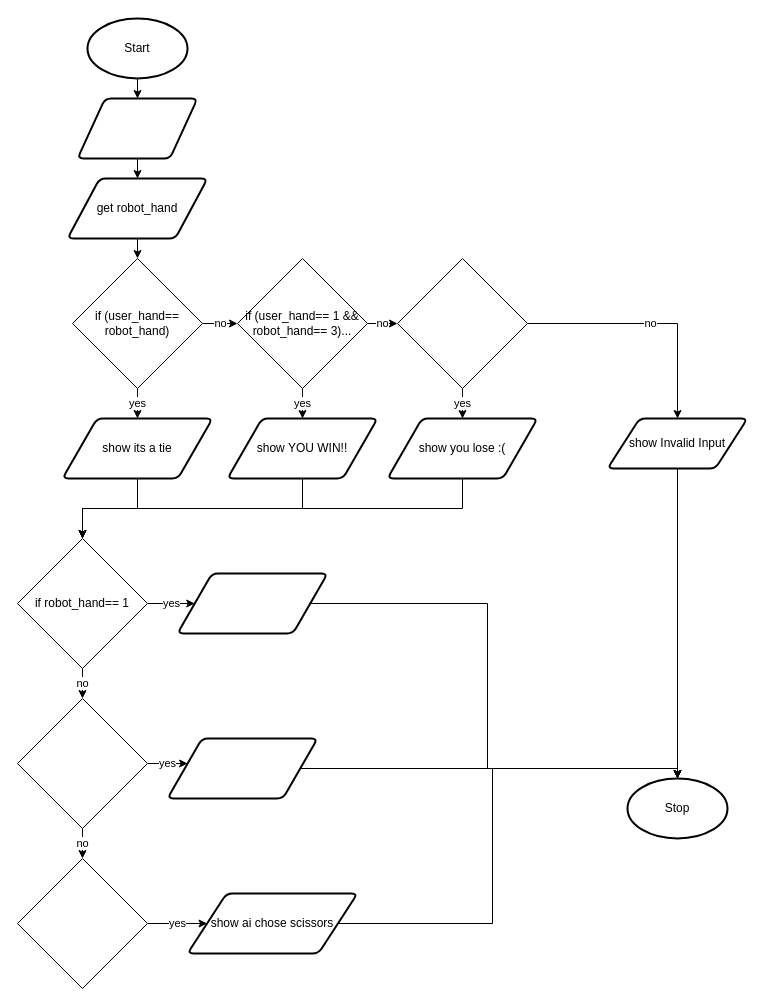
This 766x1006 diagram has some shape labels left out. Each missing label, with the centre of its shape:
"else" goes at (82,923).
"else if robot_hand== 2" goes at (82,763).
"get user_hand" goes at (137,128).
"if (user_hand== 1 && robot_hand== 2)..." goes at (462,323).
"show ai chose paper" goes at (242,768).
"show ai chose rock" goes at (252,603).
